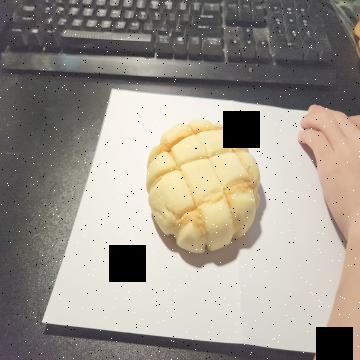melon_bread: (146, 123, 262, 254)
